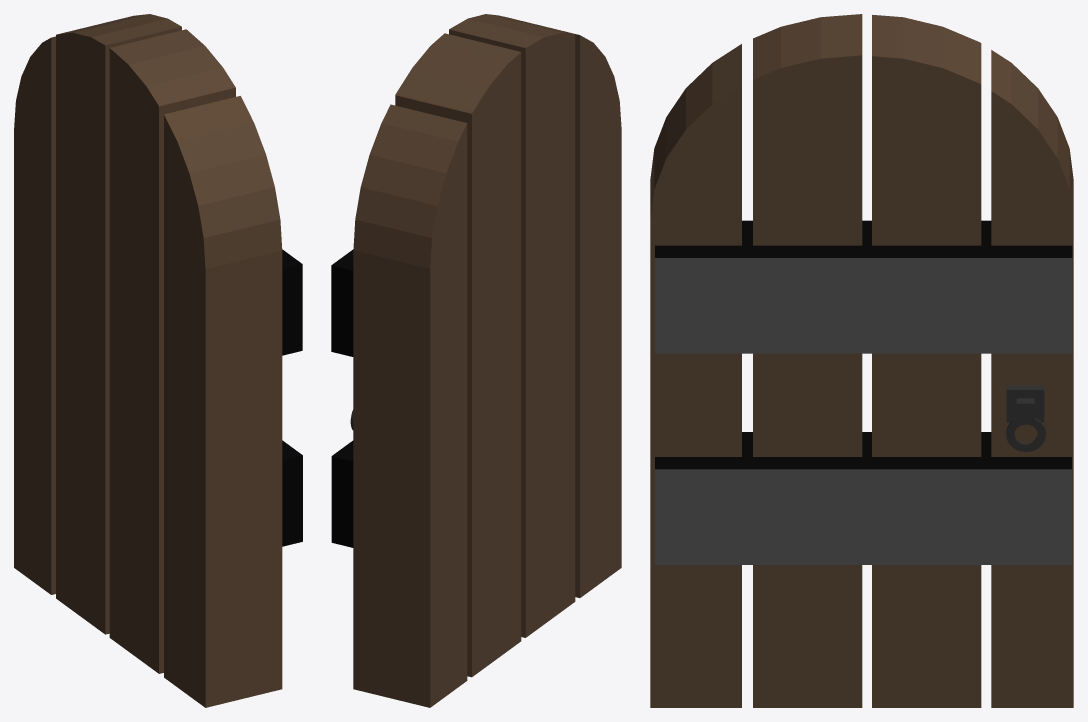
File: door.fbx
3 renders of one model, left to right at view 1: azimuth 30°, elevation 25°; view 2: azimuth 150°, elevation 25°; view 3: azimuth 270°, elevation 25°, orthographic. The views are drawn at different scales.
Visible parts, largest first — view 1: door; view 2: door; view 3: door.
Part boxes in pixels (x1=…): door: x1=14, y1=14, x2=302, y2=707; door: x1=331, y1=14, x2=621, y2=707; door: x1=650, y1=14, x2=1073, y2=707.
Bounding box in the file's own units: 15 × 85 × 50.
